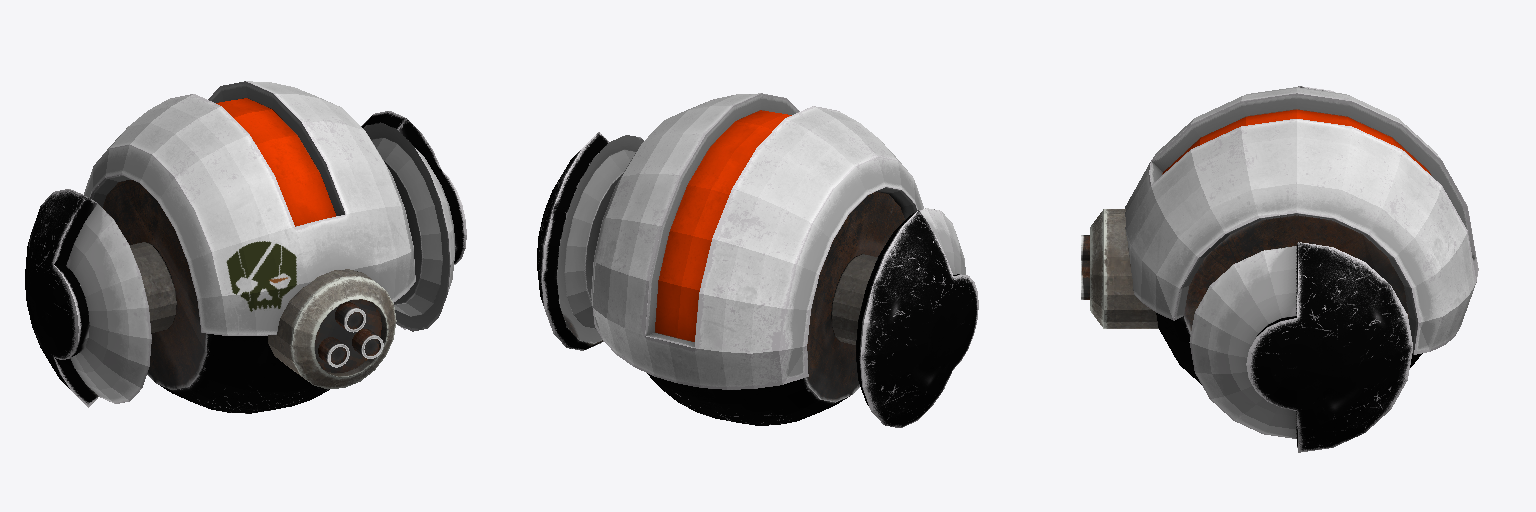
3 views of the same model, side by side, from view 1: azimuth 30°, elevation 25°; view 2: azimuth 150°, elevation 25°; view 3: azimuth 270°, elevation 25° (orthographic).
Visible parts, largest first — view 1: Drone; view 2: Drone; view 3: Drone.
Boxes of the visible parts, box(x1,y1,x2,y2) form: Drone: box(25, 81, 466, 413); Drone: box(537, 93, 978, 427); Drone: box(1081, 86, 1478, 452).
Bounding box in the file's own units: 3.06 × 2.19 × 2.63.
1 materials, 1 textured.